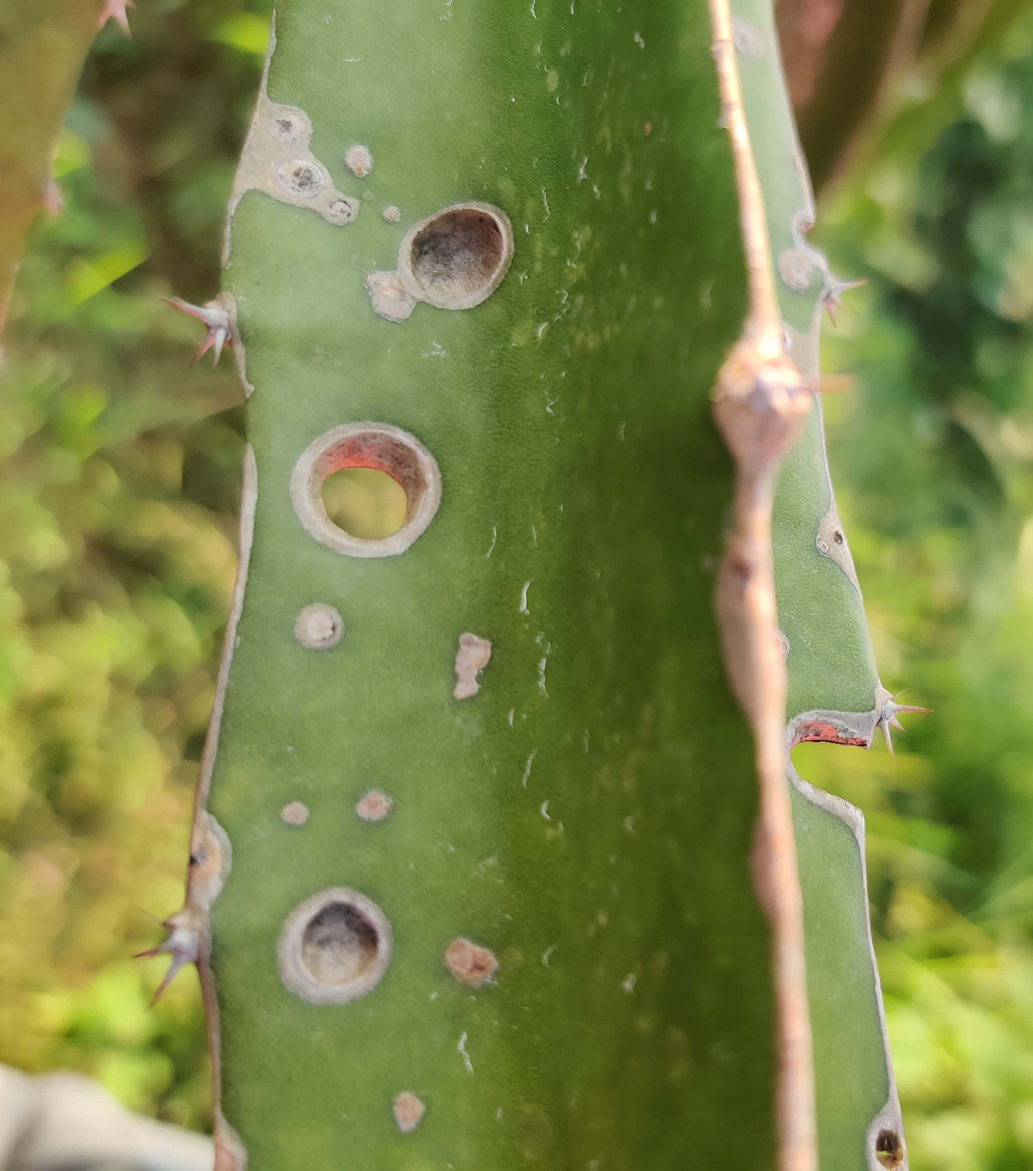stemcanker: (289, 416, 443, 558), (273, 884, 395, 1004), (401, 200, 517, 313), (788, 710, 881, 836), (814, 500, 865, 584), (864, 1083, 909, 1171), (793, 211, 829, 267)
